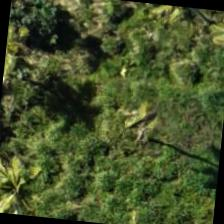Kelapa_Sawit: (92, 72, 191, 172), (0, 150, 58, 219)
